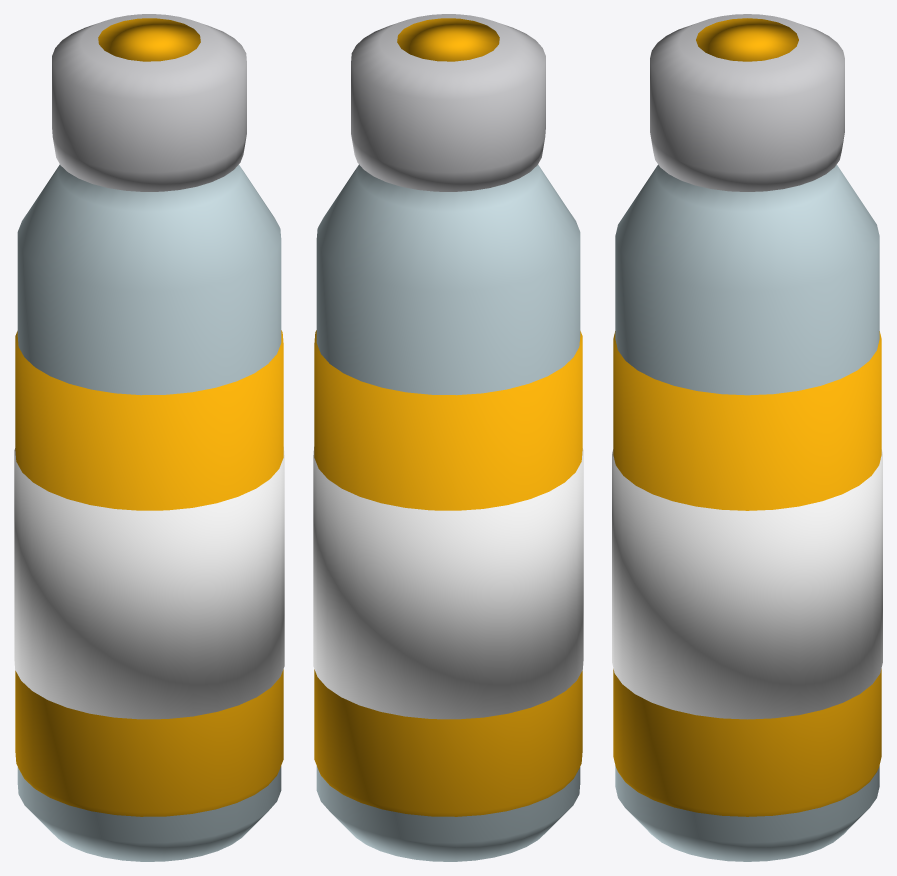
File: SM_Phoenix.glb
3 renders of one model, left to right at view 1: azimuth 30°, elevation 25°; view 2: azimuth 150°, elevation 25°; view 3: azimuth 270°, elevation 25°, orthographic.
Parts seen in each view (by area): view 1: SM_Phoenix; view 2: SM_Phoenix; view 3: SM_Phoenix.
Part boxes in pixels (x1=…): SM_Phoenix: x1=14, y1=14, x2=284, y2=861; SM_Phoenix: x1=313, y1=14, x2=583, y2=861; SM_Phoenix: x1=612, y1=14, x2=882, y2=861.
Bounding box in the file's own units: 0.0236 × 0.0752 × 0.0236.
